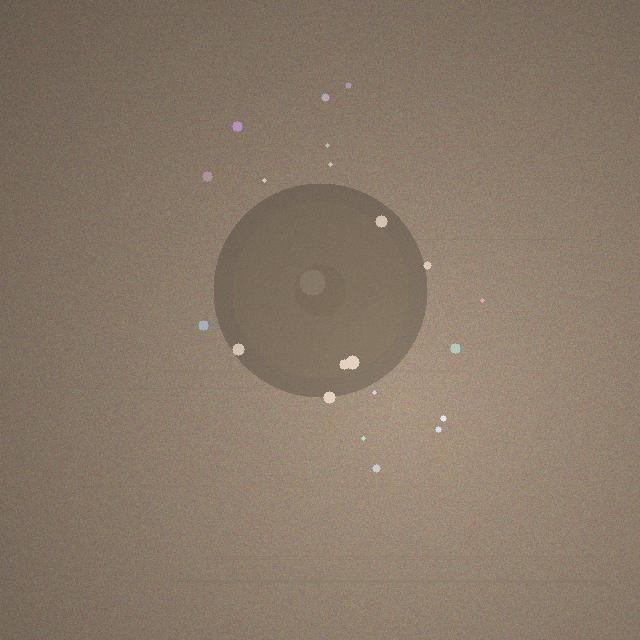overburn: (213, 183, 427, 397)
